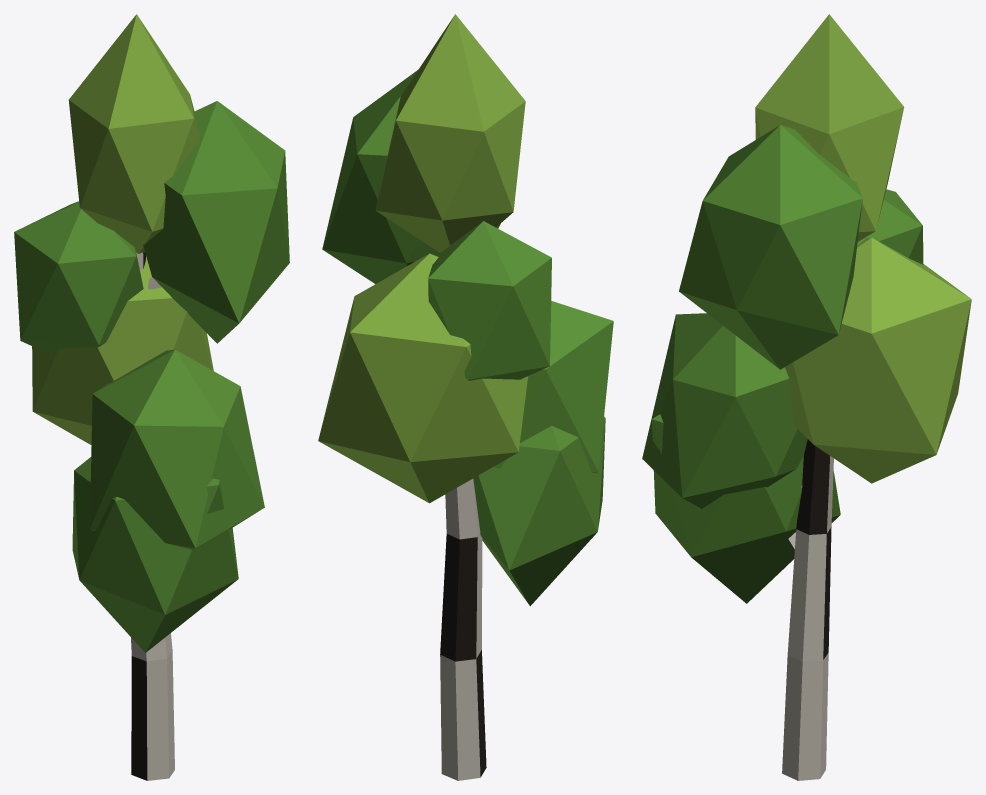
The model's file is Tree_Birch_C.glb.
3 views of the same model, side by side, from view 1: azimuth 30°, elevation 25°; view 2: azimuth 150°, elevation 25°; view 3: azimuth 270°, elevation 25° (orthographic). The views are drawn at different scales.
Visible parts, largest first — view 1: Tree_Birch_C; view 2: Tree_Birch_C; view 3: Tree_Birch_C.
Boxes of the visible parts, box(x1,y1,x2,y2) form: Tree_Birch_C: box(14, 14, 289, 780); Tree_Birch_C: box(318, 14, 613, 780); Tree_Birch_C: box(642, 14, 971, 780).
Bounding box in the file's own units: 1.76 × 5.49 × 2.17.
